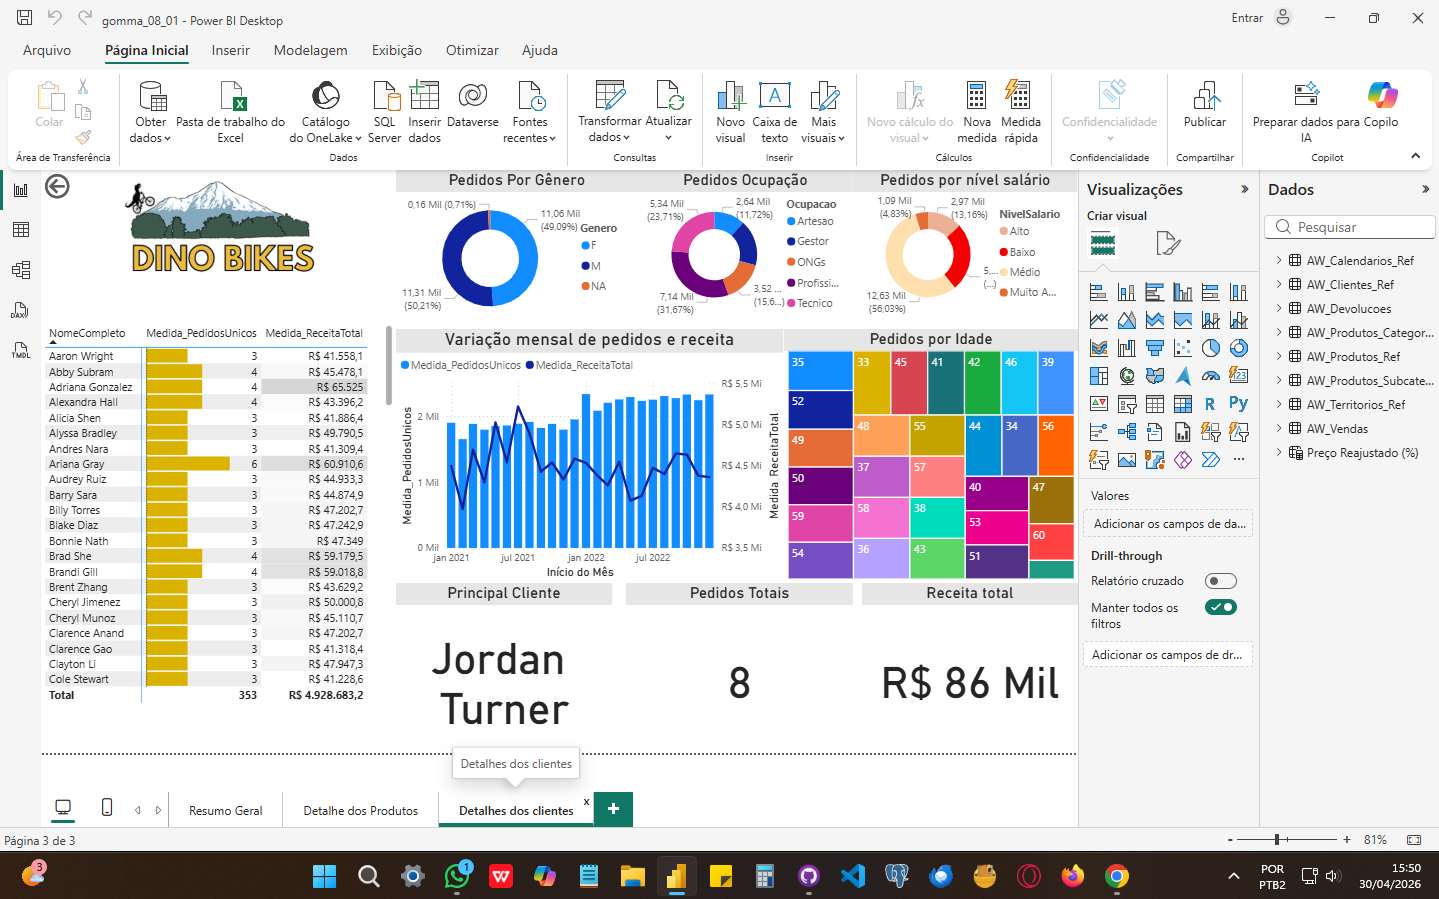

Layout of this report page (visuals, bound fields, positions):
{"tool":"powerbi","page":{"name":"Detalhes dos clientes","canvas":[1280,720],"ordinal":2},"visuals":[{"type":"image","box":[0,0,438.7,147.8],"z":0},{"type":"pivotTable","fields":{"Rows":["AW_Clientes_Ref.NomeCompleto"],"Values":["AW_Vendas.Medida_PedidosUnicos","AW_Vendas.Medida_ReceitaTotal"]},"box":[0,186.9,438.7,476.4],"z":1000},{"type":"donutChart","title":"Pedidos Por Gênero","fields":{"Y":["AW_Vendas.Medida_PedidosUnicos"],"Series":["AW_Clientes_Ref.Genero"]},"box":[438.7,0,298.5,196],"z":2000},{"type":"donutChart","title":"Pedidos por nível salário","fields":{"Y":["AW_Vendas.Medida_PedidosUnicos"],"Series":["AW_Clientes_Ref.NivelSalario"]},"box":[1002.6,0,277.4,186.9],"z":3000},{"type":"donutChart","title":"Pedidos Ocupação","fields":{"Y":["AW_Vendas.Medida_PedidosUnicos"],"Series":["AW_Clientes_Ref.Ocupacao"]},"box":[737.2,0,265.3,186.9],"z":4000},{"type":"lineStackedColumnComboChart","title":"Variação mensal de pedidos e receita","fields":{"Y":["AW_Vendas.Medida_PedidosUnicos"],"Y2":["AW_Vendas.Medida_ReceitaTotal"],"Category":["AW_Calendarios_Ref.Início do Mês"]},"box":[438.7,196,477.9,313.6],"z":5000},{"type":"treemap","title":"Pedidos por Idade","fields":{"Values":["AW_Vendas.Medida_PedidosUnicos"],"Group":["AW_Clientes_Ref.Coluna_IdadeAtual"]},"box":[916.7,196,363.3,313.6],"z":6000},{"type":"card","title":"Principal Cliente","fields":{"Values":["Min(AW_Clientes_Ref.NomeCompleto)"]},"box":[438.7,509.6,266.9,211.1],"z":7000},{"type":"card","title":"Pedidos Totais","fields":{"Values":["AW_Vendas.Medida_PedidosUnicos"]},"box":[722.2,509.6,280.4,211.1],"z":8000},{"type":"card","title":"Receita total","fields":{"Values":["AW_Vendas.Medida_ReceitaTotal"]},"box":[1013.1,509.6,266.9,211.1],"z":9000},{"type":"actionButton","box":[0,0,100,40],"z":10000},{"type":"actionButton","box":[0,0,100,40],"z":11000}]}

Visuals, with their boxes on the page's 1280x720 design canvas (x1, y1, x2, y2). These are canvas units, not pixel positions in the 1439x899 screenshot, which may show the page scaled, cropped or inside an application window:
image: 0 0 439 148
pivotTable - AW_Clientes_Ref.NomeCompleto x AW_Vendas.Medida_PedidosUnicos: 0 187 439 663
"Pedidos Por Gênero" donutChart: 439 0 737 196
"Pedidos por nível salário" donutChart: 1003 0 1280 187
"Pedidos Ocupação" donutChart: 737 0 1002 187
"Variação mensal de pedidos e receita" lineStackedColumnComboChart: 439 196 917 510
"Pedidos por Idade" treemap: 917 196 1280 510
"Principal Cliente" card: 439 510 706 721
"Pedidos Totais" card: 722 510 1003 721
"Receita total" card: 1013 510 1280 721
actionButton: 0 0 100 40
actionButton: 0 0 100 40
